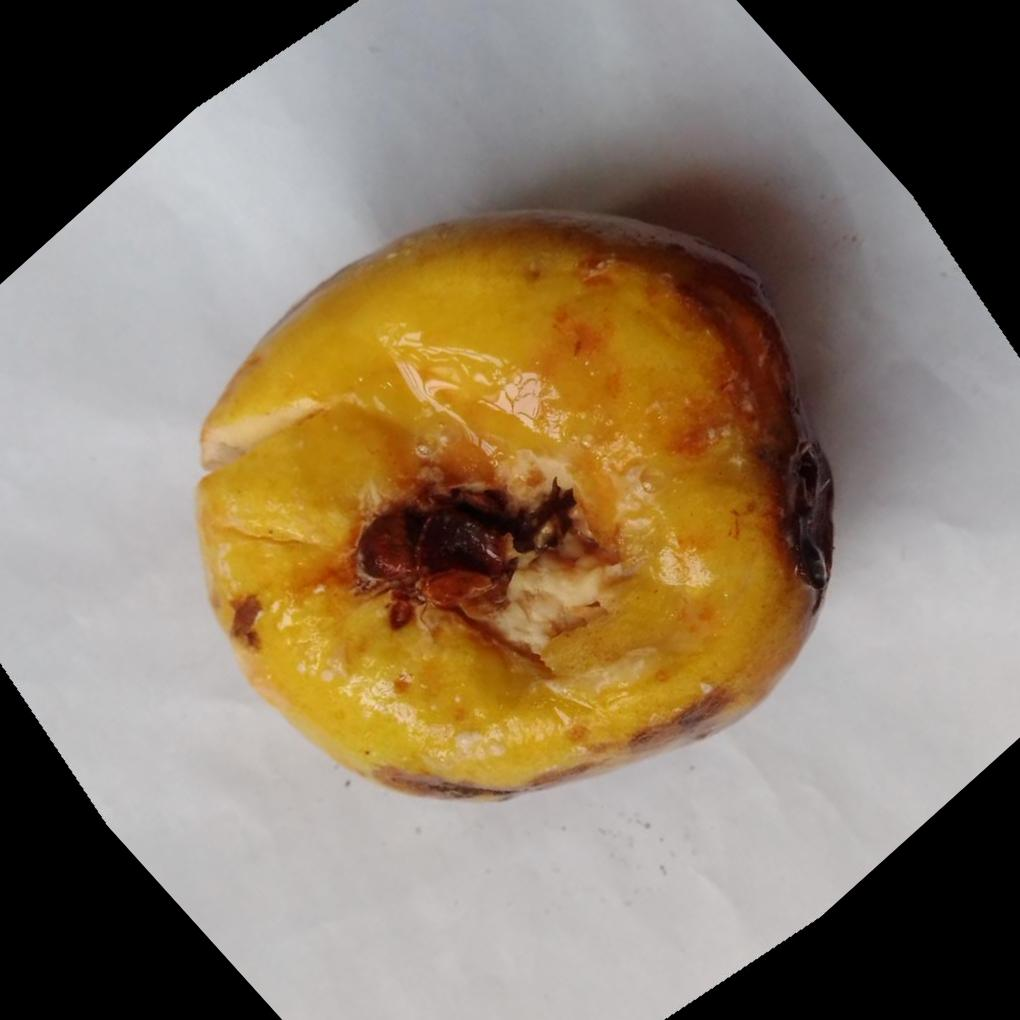FreshOrange: (195, 209, 839, 801)
